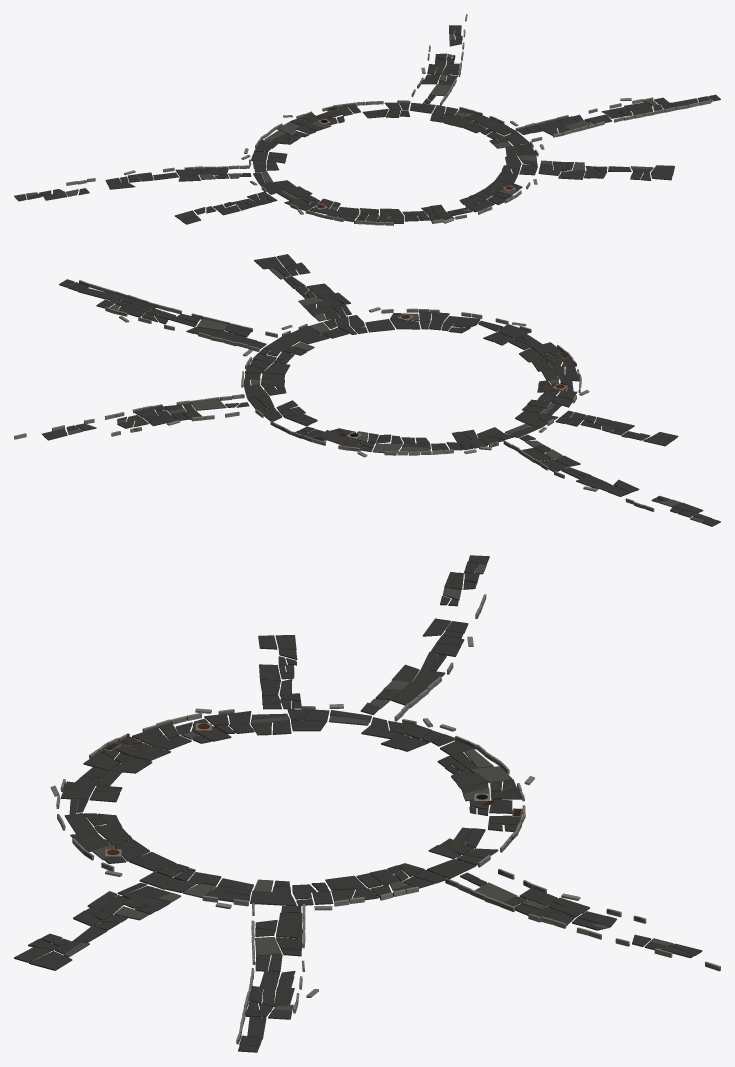
File: ruas.glb
3 renders of one model, top to bottom at view 1: azimuth 30°, elevation 25°; view 2: azimuth 150°, elevation 25°; view 3: azimuth 270°, elevation 25°, orthographic. The views are drawn at different scales.
Parts seen in each view (by area): view 1: g_ruas; view 2: g_ruas; view 3: g_ruas.
Part boxes in pixels (left/top/right/bottom): g_ruas: left=14, top=14, right=720, bottom=225; g_ruas: left=14, top=254, right=720, bottom=526; g_ruas: left=14, top=555, right=720, bottom=1052.
Bounding box in the file's own units: 67.84 × 0.4057 × 40.82.
Materials: 1 (1 with a texture image).
